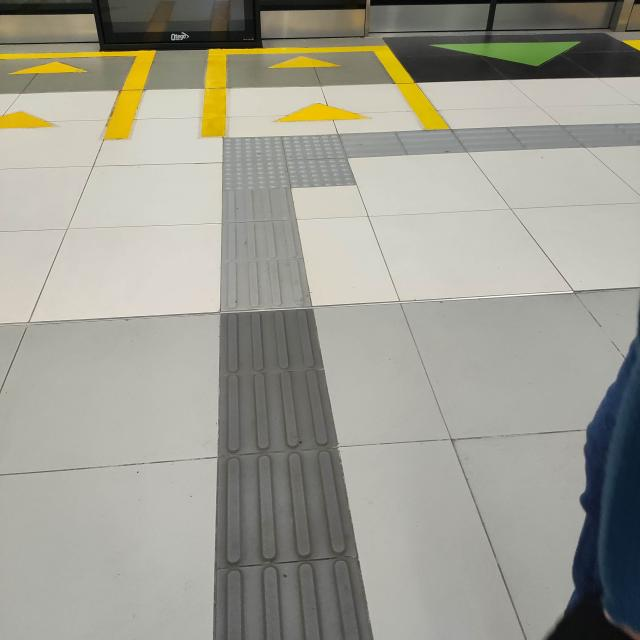kanan: (197, 100, 449, 221)
